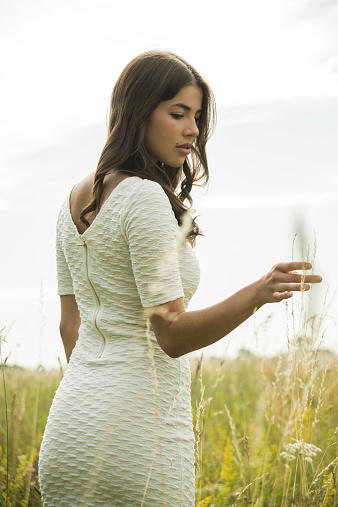em pe: (41, 66, 321, 492)
